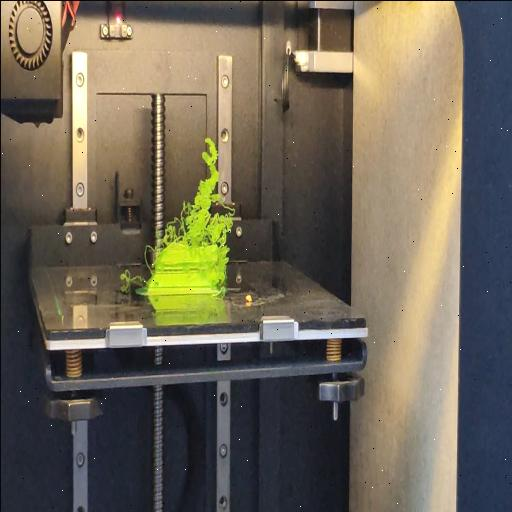spaghetti: (160, 136, 234, 250), (214, 248, 228, 298), (120, 268, 146, 288), (144, 240, 156, 270)
